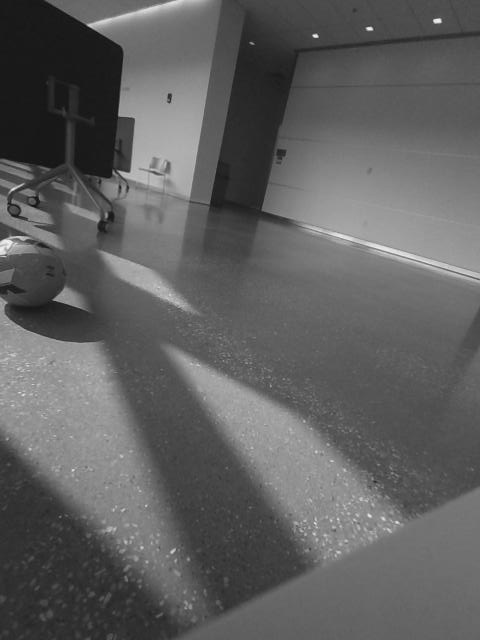ball: (1, 234, 70, 312)
